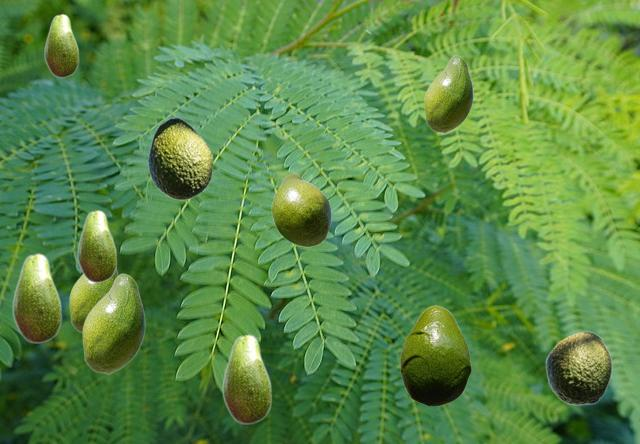avocado: (400, 305, 470, 405), (82, 273, 144, 373), (147, 117, 212, 199), (545, 331, 611, 404), (12, 252, 61, 343), (222, 333, 271, 424), (271, 173, 330, 246), (424, 55, 472, 132), (69, 268, 118, 333), (77, 209, 116, 282), (44, 13, 78, 77)
